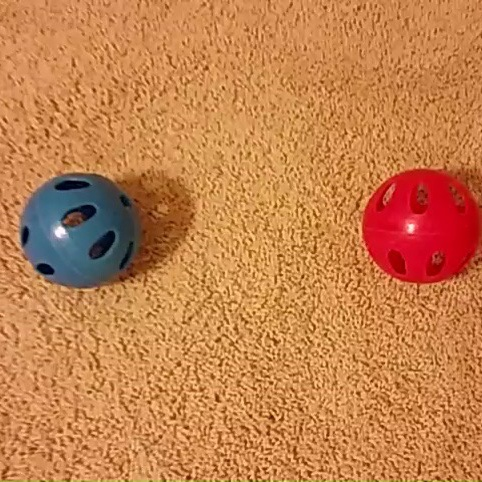ball: (14, 164, 148, 292), (358, 163, 482, 289)
